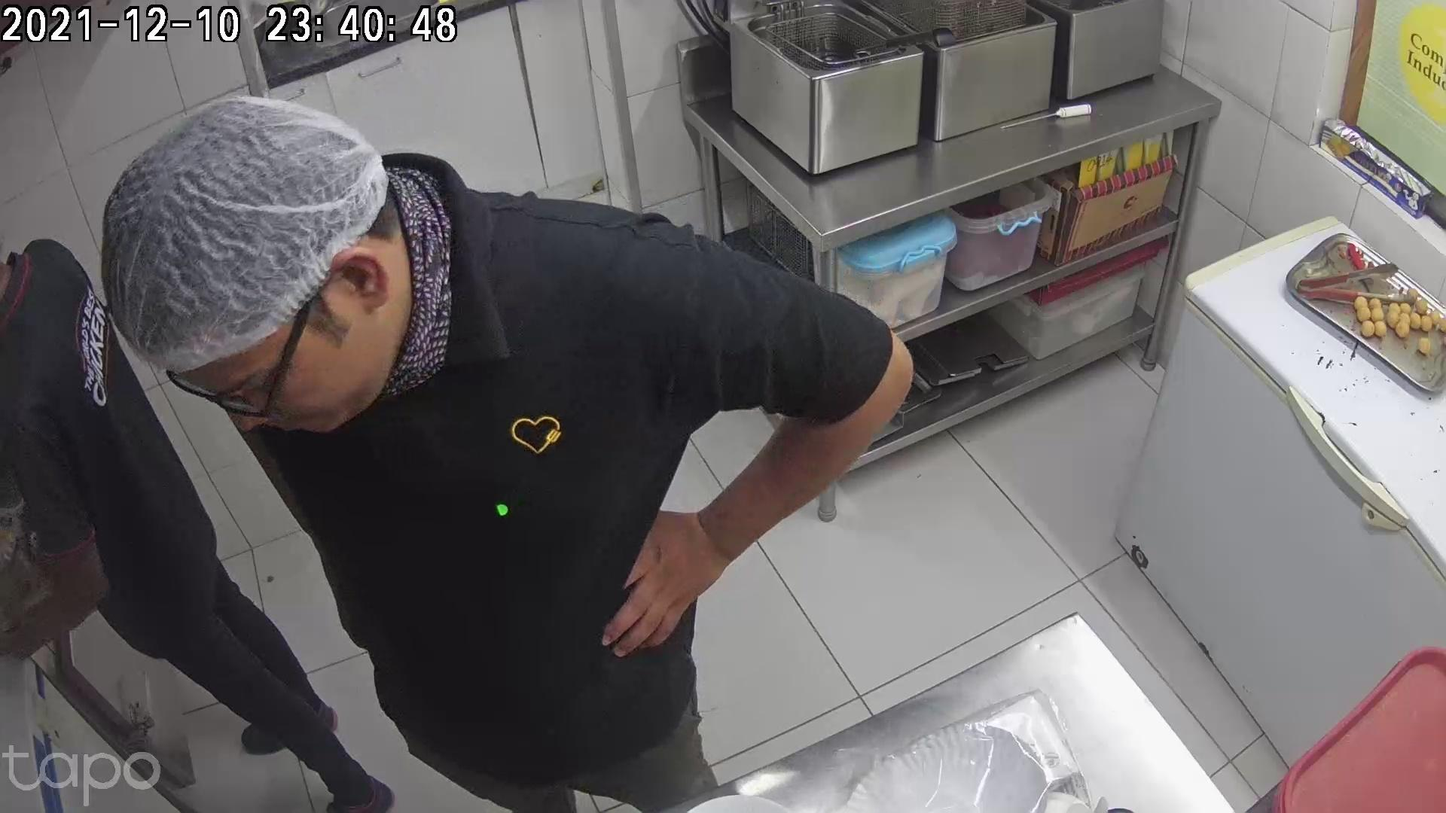no_gloves: (393, 612, 496, 740)
